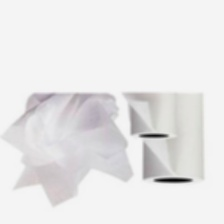tissue: (0, 93, 137, 212), (137, 93, 210, 192), (126, 93, 182, 145)
